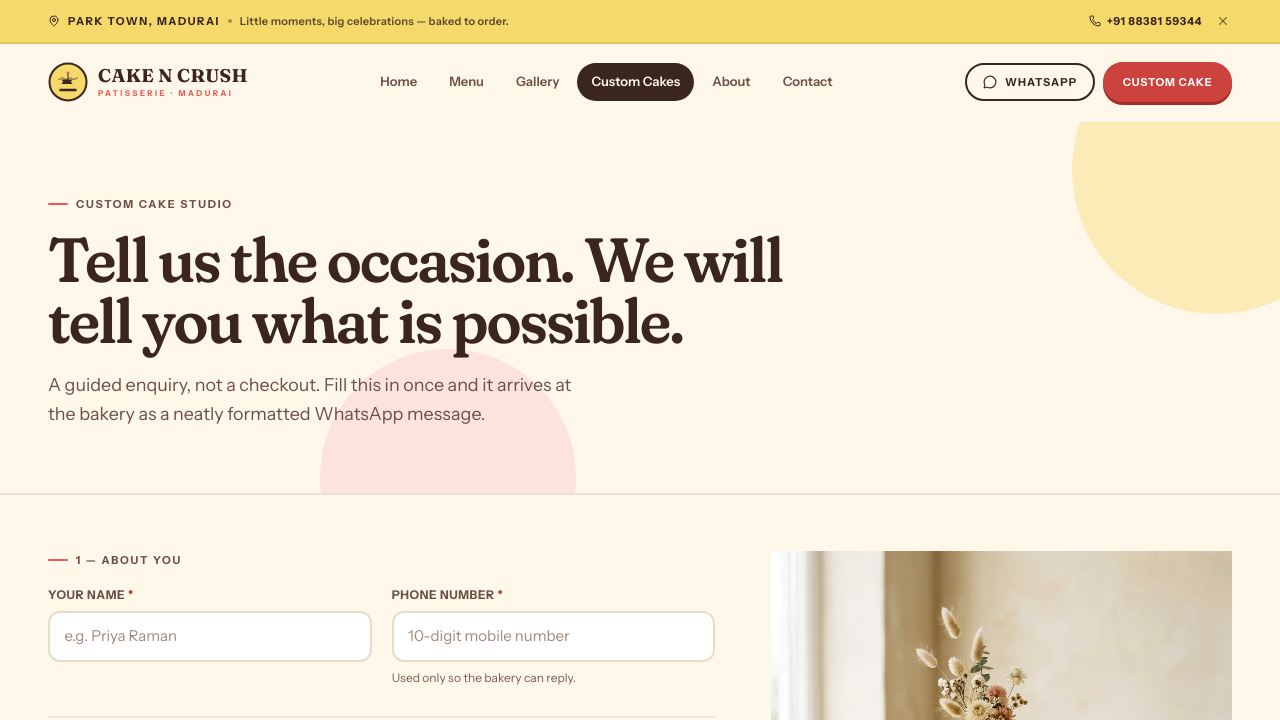
Scenario: custom cakes page › validates the phone number format
The image size is (1280, 720).
Type "12345" into the field labelled "Phone number *".
click(554, 636); type("12345")  # box [392,611,715,662]
(page scrolled)
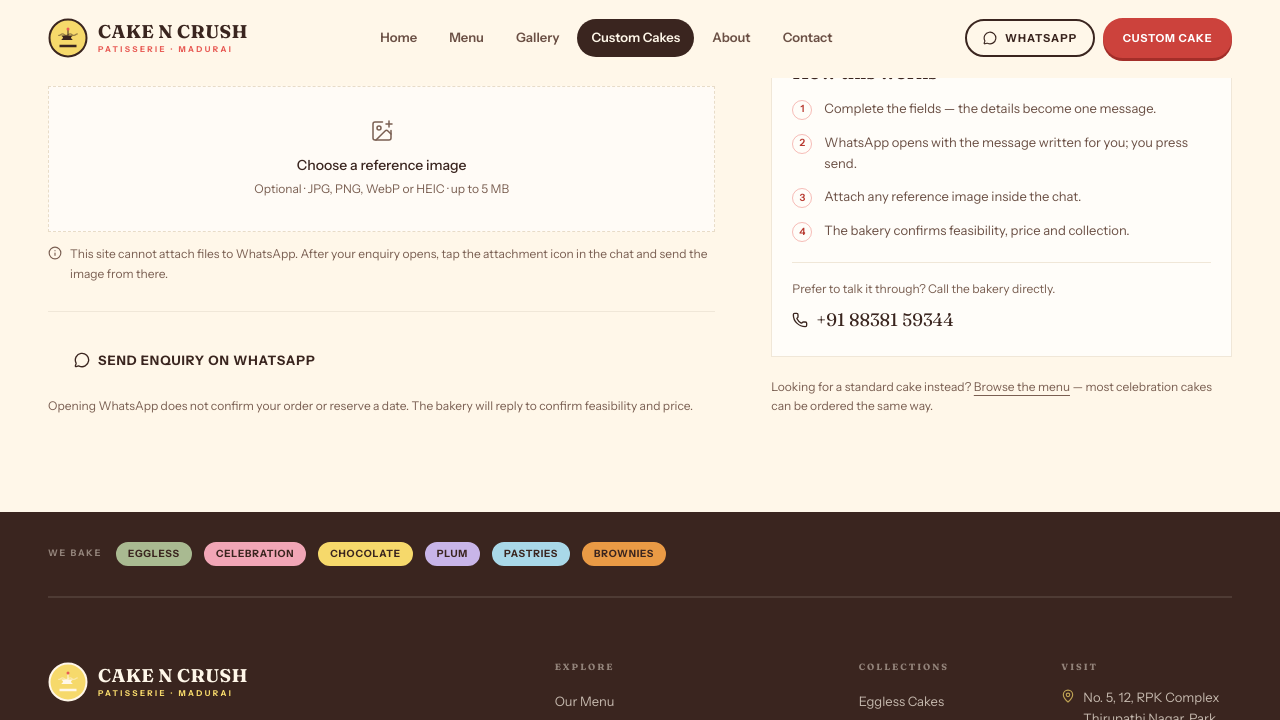
Click the button "Send enquiry on WhatsApp".
click(195, 360)  # box [48,336,342,384]
(page scrolled)
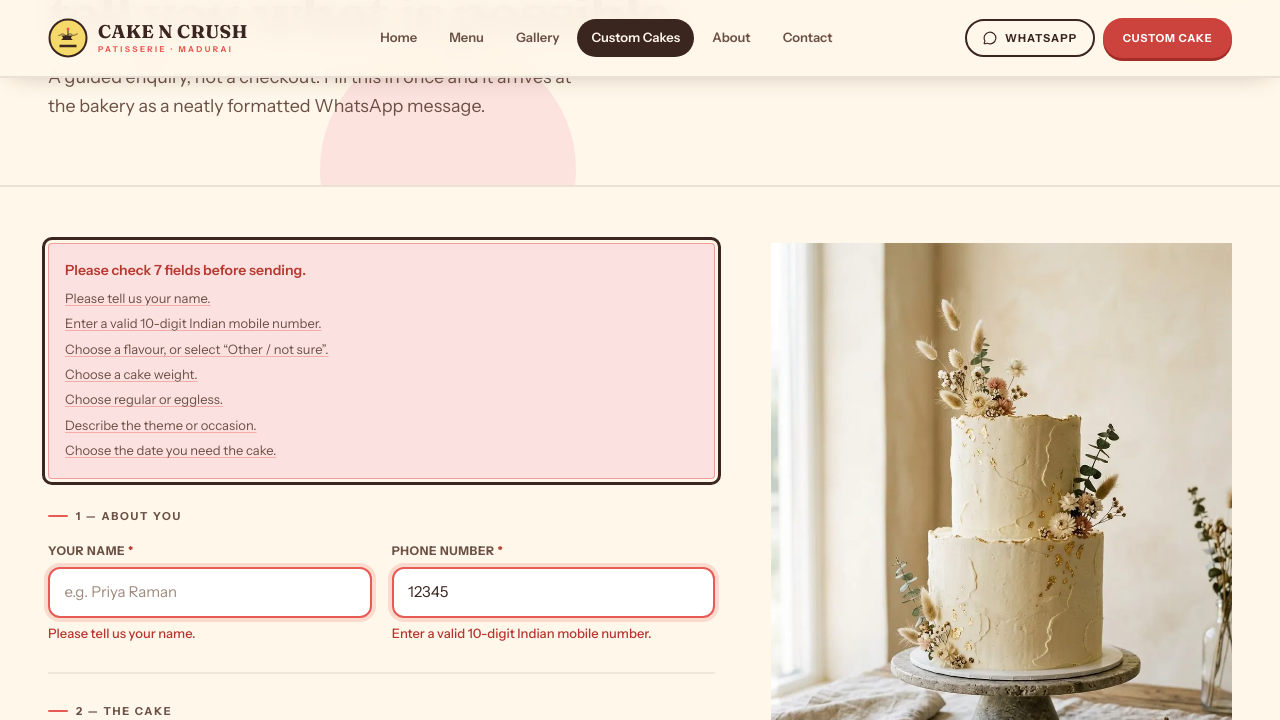
Expected: the link "Enter a valid 10-digit Indian mobile number." is shown, [65,315,322,331]
